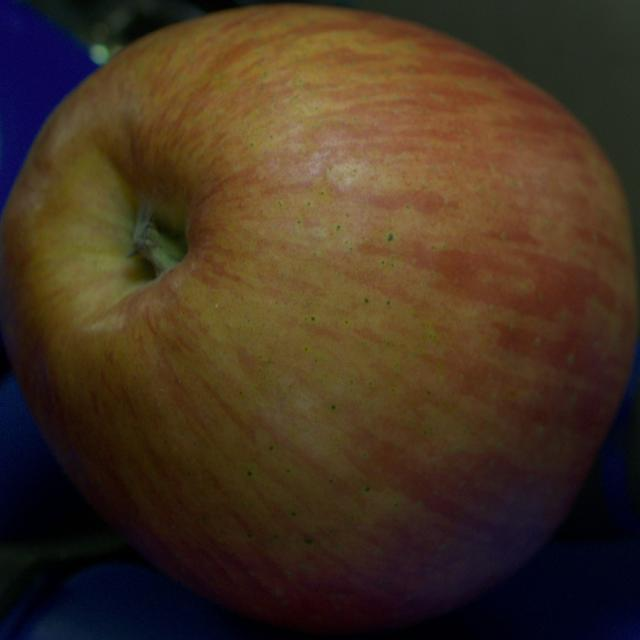apple: (0, 6, 638, 633)
